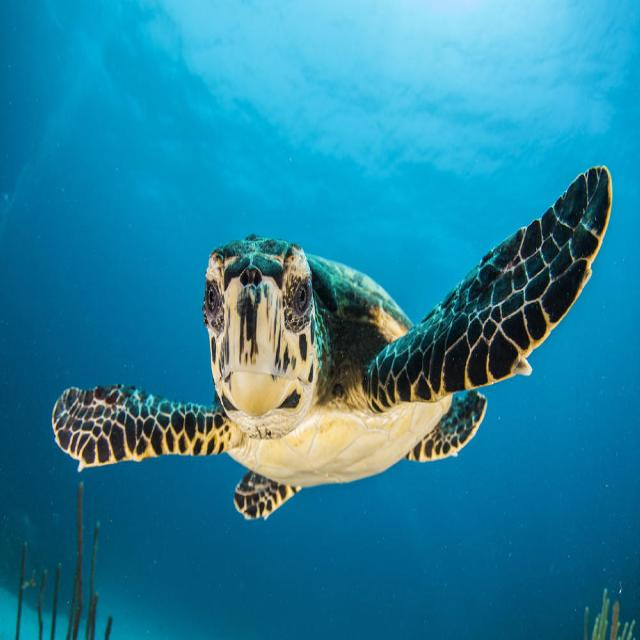sea turtle: (158, 167, 422, 402), (417, 142, 632, 348), (30, 356, 208, 489), (413, 400, 491, 470), (229, 467, 291, 543)
